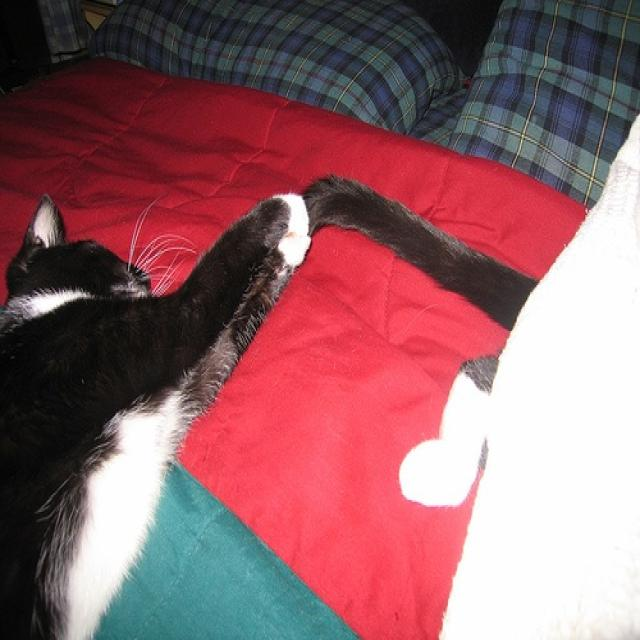cat: (1, 171, 312, 638)
